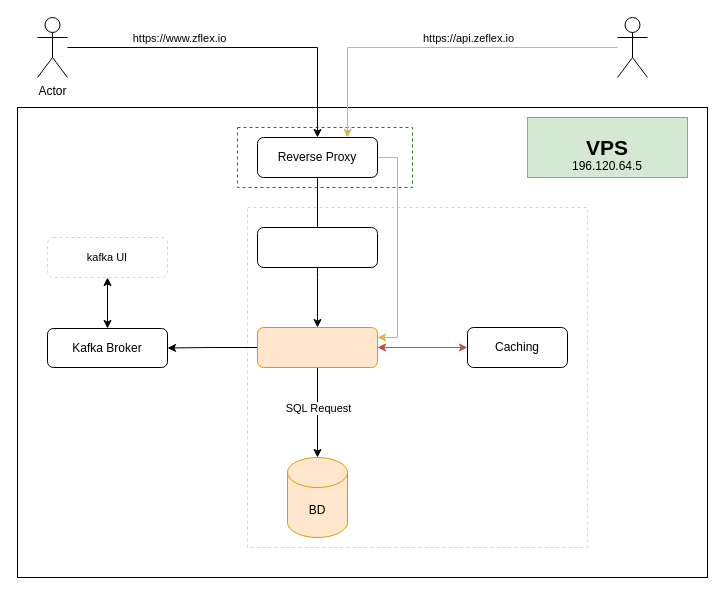
This 725x595 diagram has some shape labels left out. The shapes that lost their labels are listed below. From the top down, each one's centre as x and y in pixels, then its label:
At pixel 632 47: "Admin".
At pixel 317 247: "Client : SPA Js".
At pixel 317 347: "Spring Boot App".
